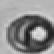correct: (6, 14, 52, 53)
